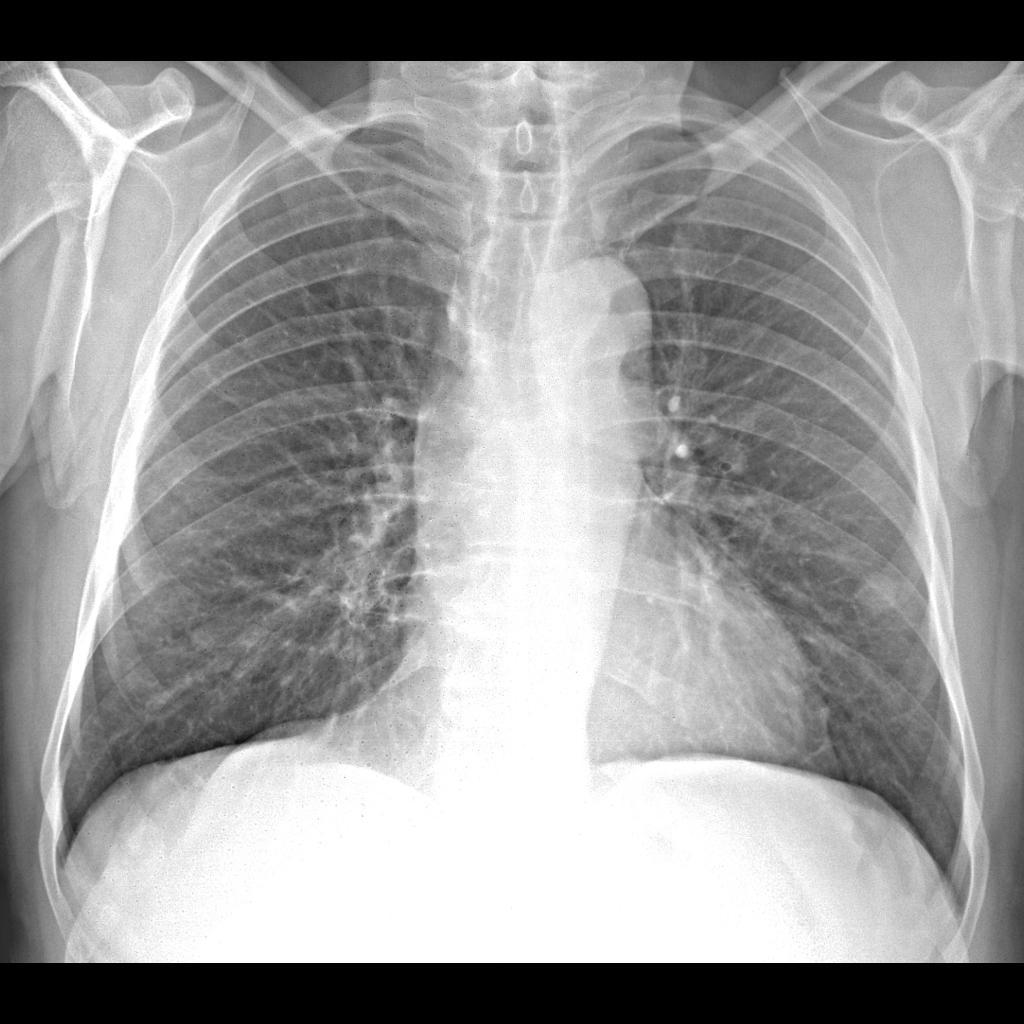Nodule: (857, 569, 903, 623), (188, 625, 222, 659)
